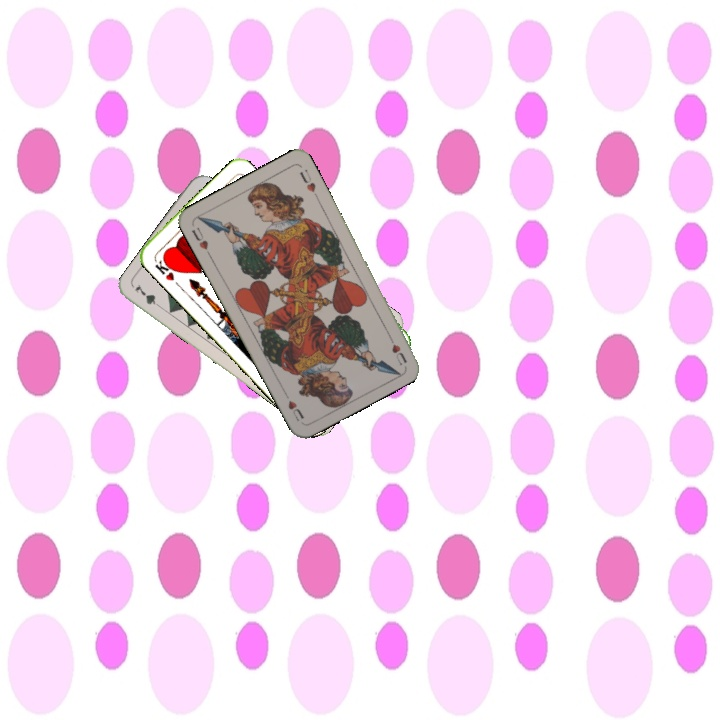G7: (130, 280, 166, 312)
HK: (150, 253, 180, 283)
HU: (384, 329, 409, 368), (187, 223, 213, 259)
